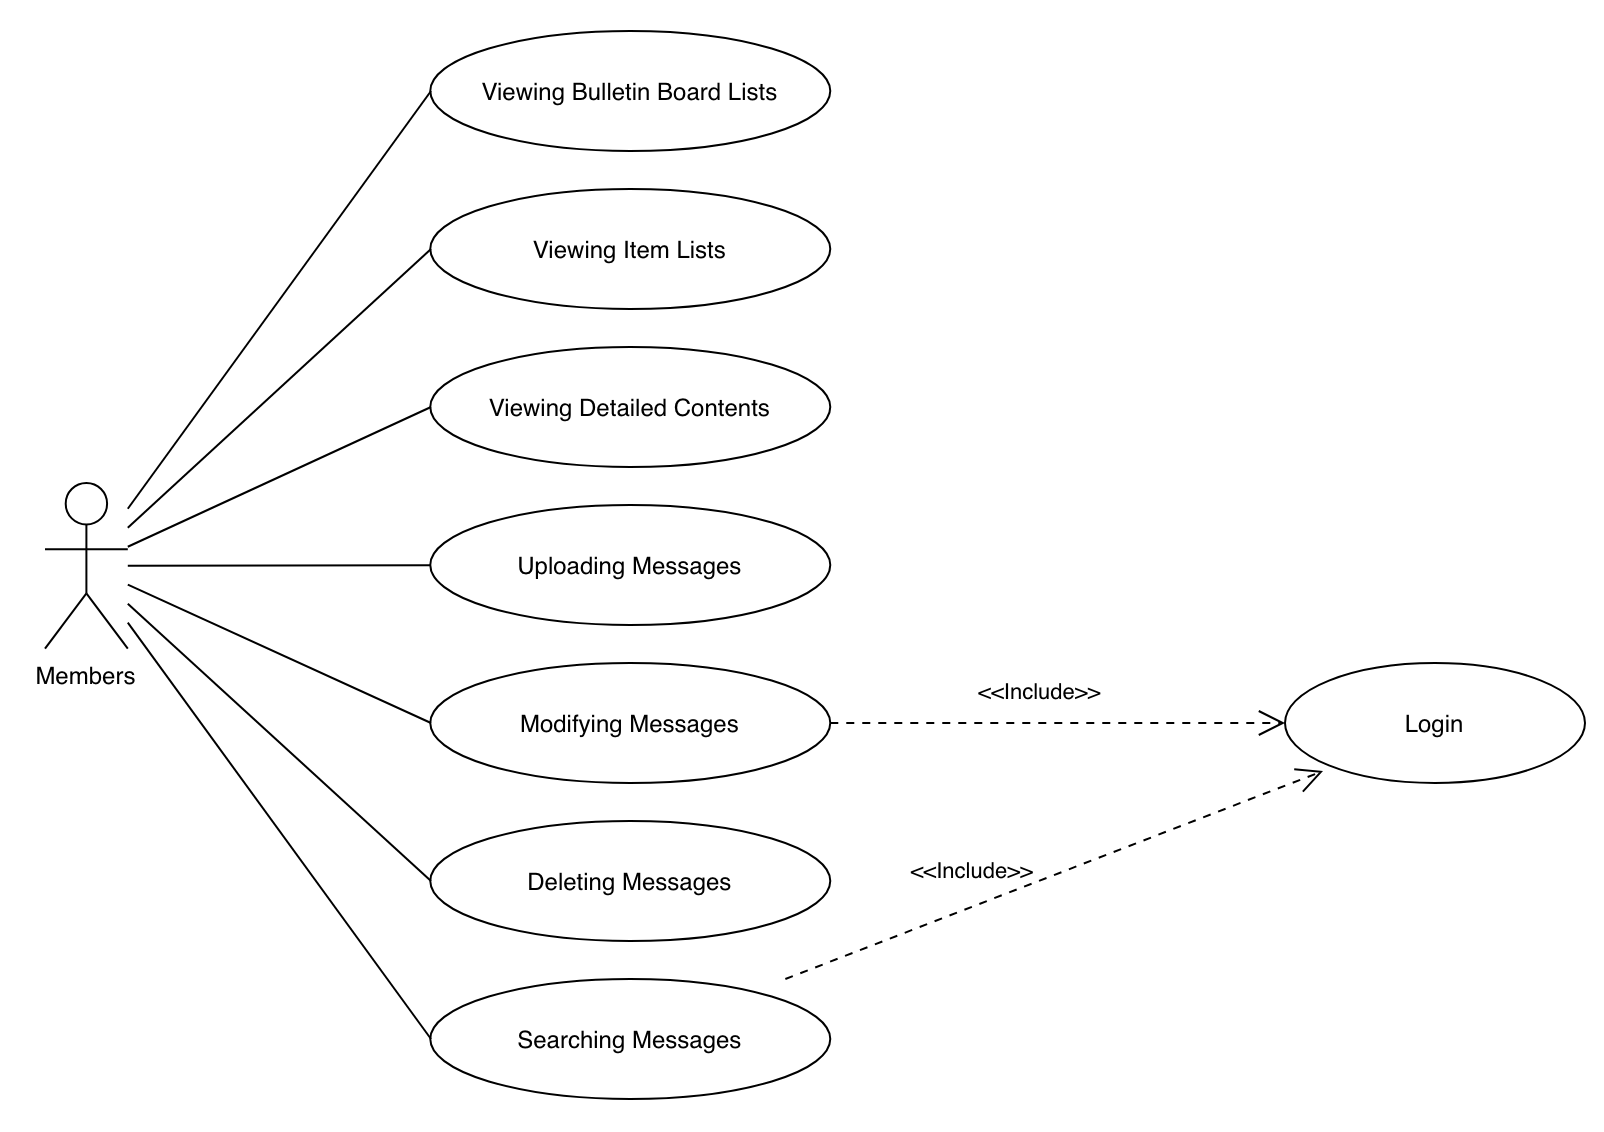actor: (27, 473, 130, 662)
association: (126, 87, 433, 512), (131, 624, 428, 1036), (783, 767, 1327, 981), (127, 249, 429, 533), (123, 600, 429, 878), (127, 403, 429, 551), (127, 579, 433, 723), (832, 703, 1283, 742), (130, 550, 433, 581)
text: (469, 65, 785, 111), (499, 693, 758, 750), (515, 851, 758, 911), (482, 390, 783, 430), (518, 545, 747, 588), (515, 1022, 751, 1055), (526, 234, 735, 270), (906, 847, 1032, 885), (974, 674, 1099, 709), (23, 662, 145, 693), (1399, 702, 1481, 745)
use_case: (426, 26, 834, 154), (426, 343, 834, 470), (426, 502, 834, 628), (429, 659, 831, 787), (430, 976, 833, 1103), (429, 818, 836, 943), (426, 189, 832, 312), (1285, 659, 1587, 787)
